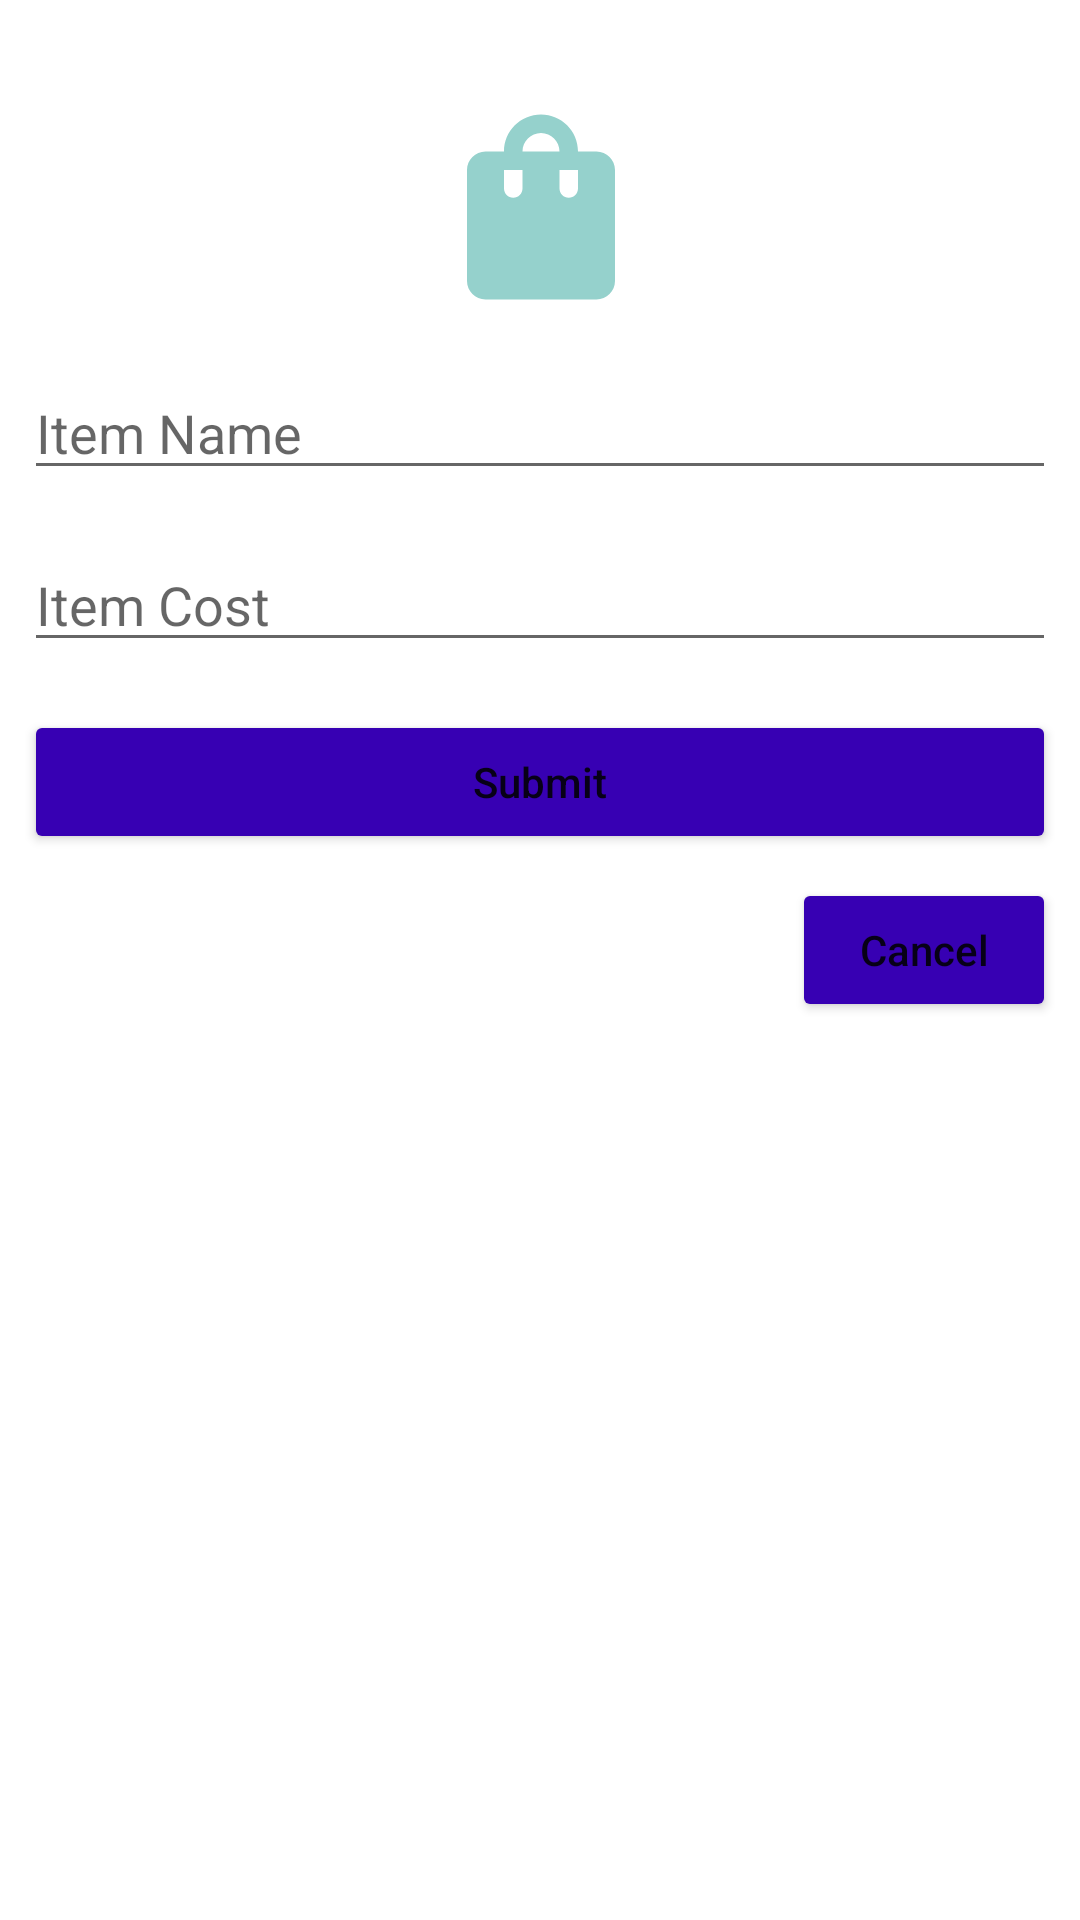

Screen size 1080*1920. Icon name, then its center in pixels as (x,y):
shopping bag: (541,207)
